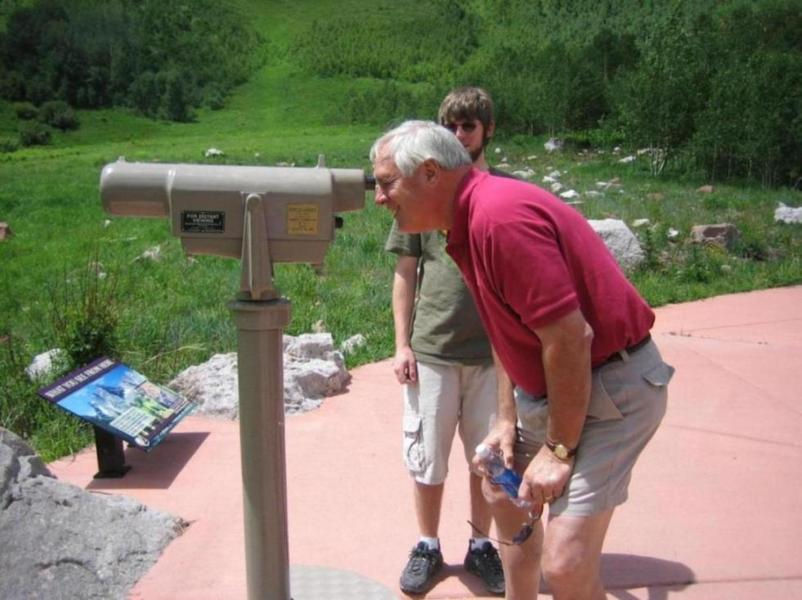person: (367, 121, 677, 600)
